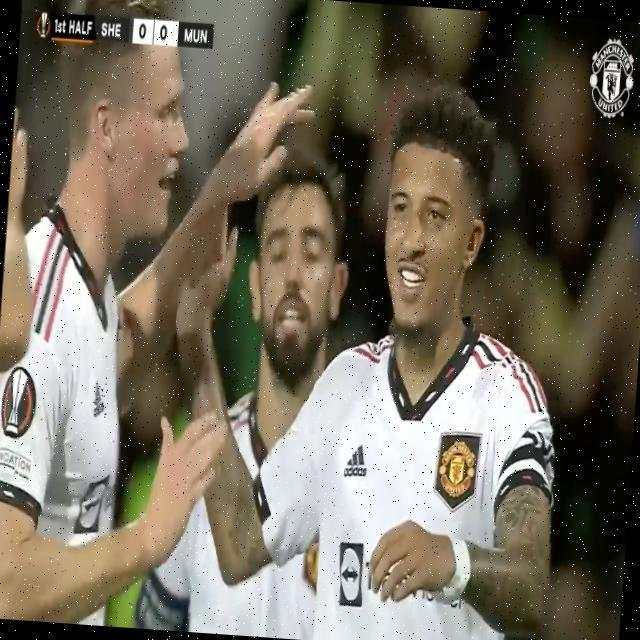Adidas: (343, 441, 370, 480), (91, 377, 109, 419)
